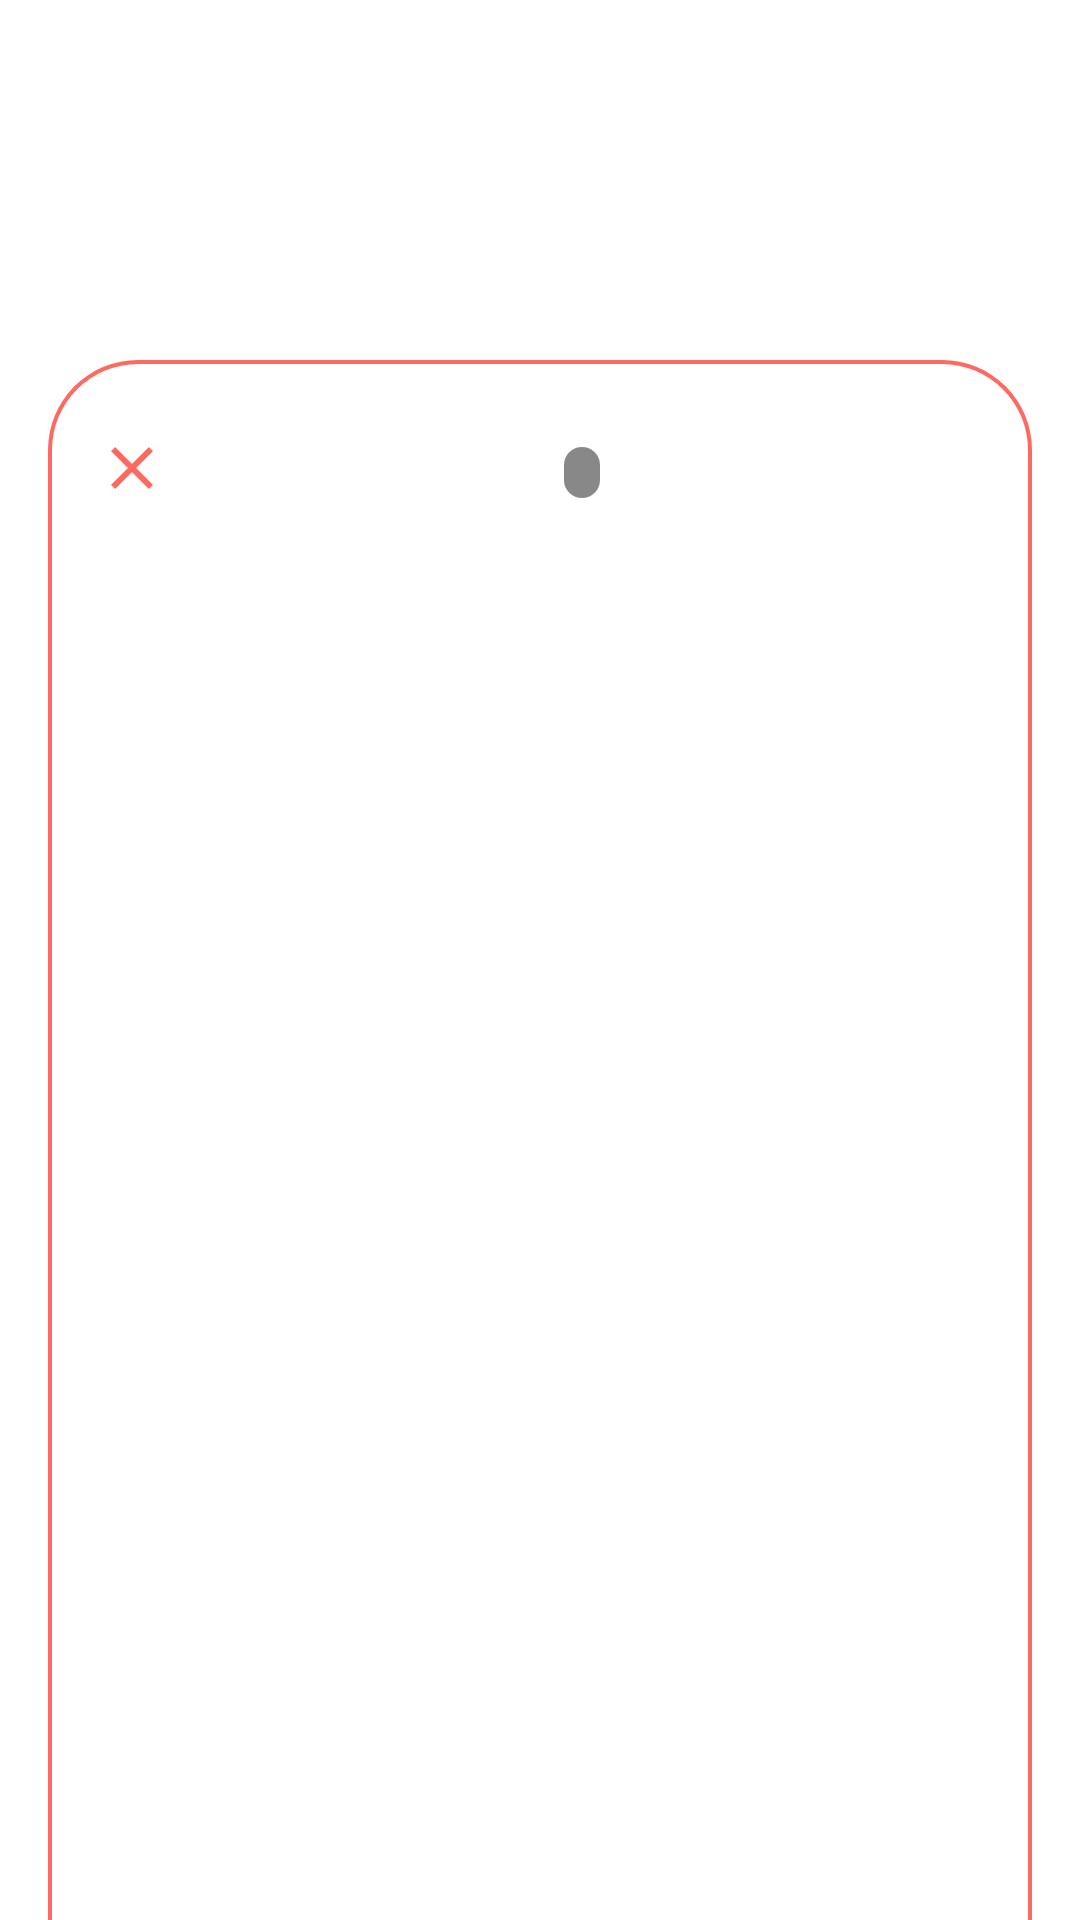

Where icons sit on this 1080*1920 app screen, as (x1, y1, x2, y2):
close: (111, 447, 153, 489)
